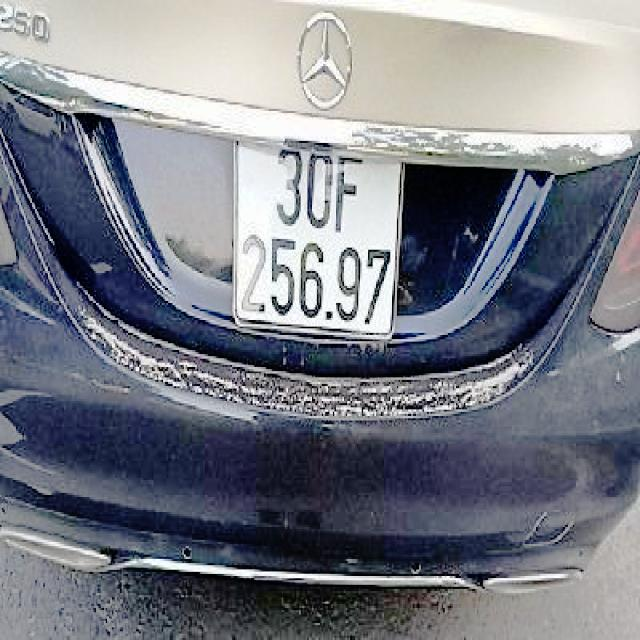license_plate: (239, 147, 399, 338)
